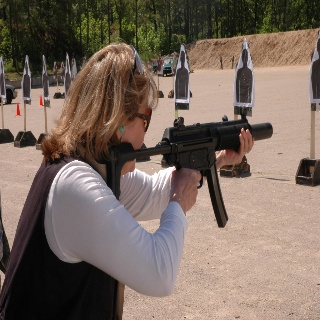rifle: (105, 113, 276, 230)
